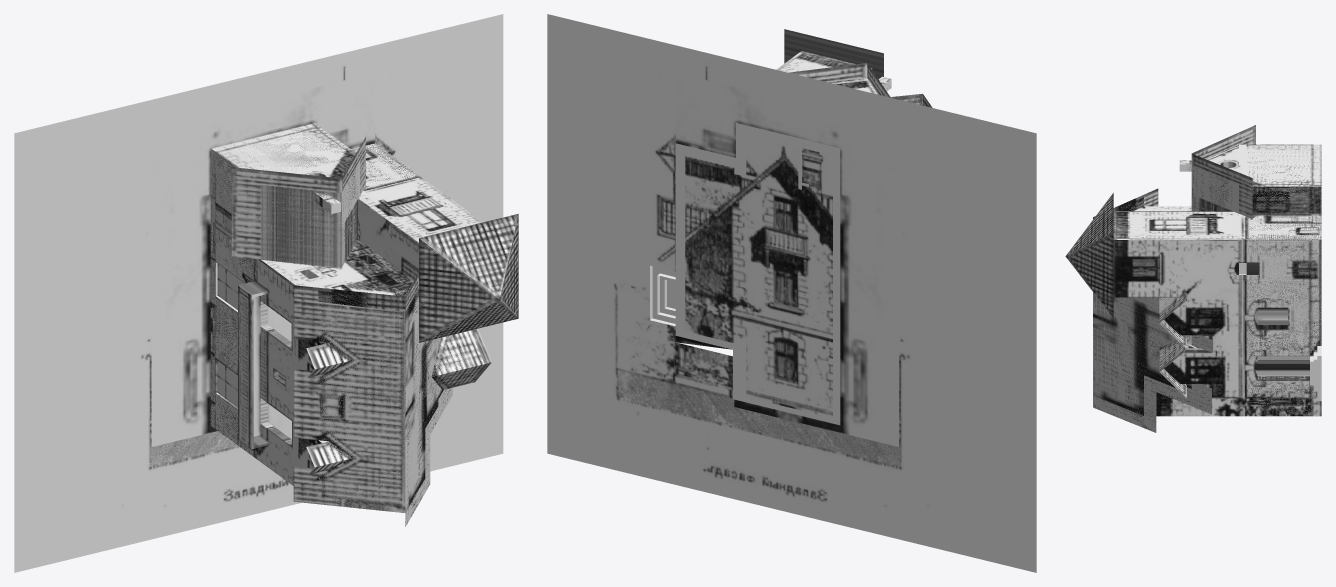
File: house.obj
3 renders of one model, left to right at view 1: azimuth 30°, elevation 25°; view 2: azimuth 150°, elevation 25°; view 3: azimuth 270°, elevation 25°, orthographic. The views are drawn at different scales.
Bounding box in the file's own units: 355 × 305 × 195.
Materials: 1 (1 with a texture image).
